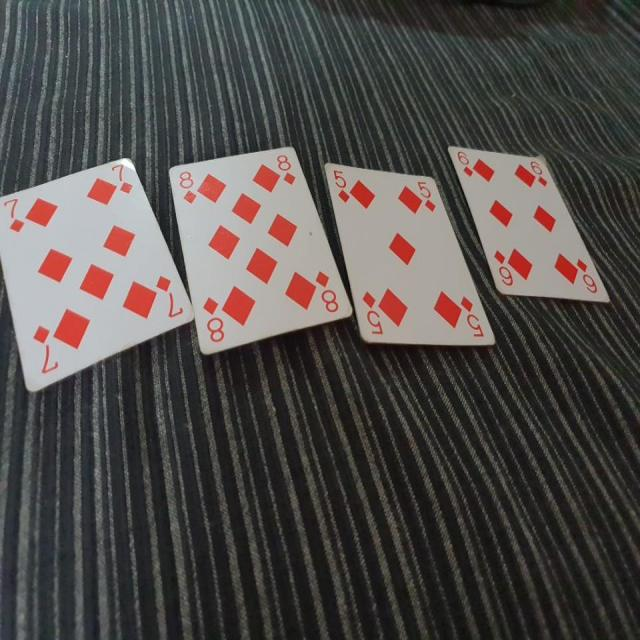5 Diamonds: (324, 156, 498, 353)
6 Diamonds: (447, 143, 610, 304)
7 Diamonds: (1, 153, 195, 394)
8 Diamonds: (168, 144, 352, 358)
